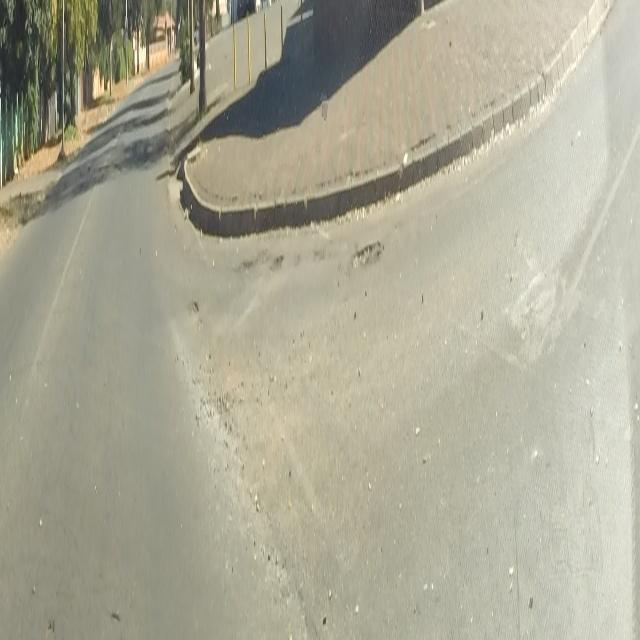pothole: (349, 228, 384, 270), (236, 252, 290, 274), (189, 297, 200, 314)
